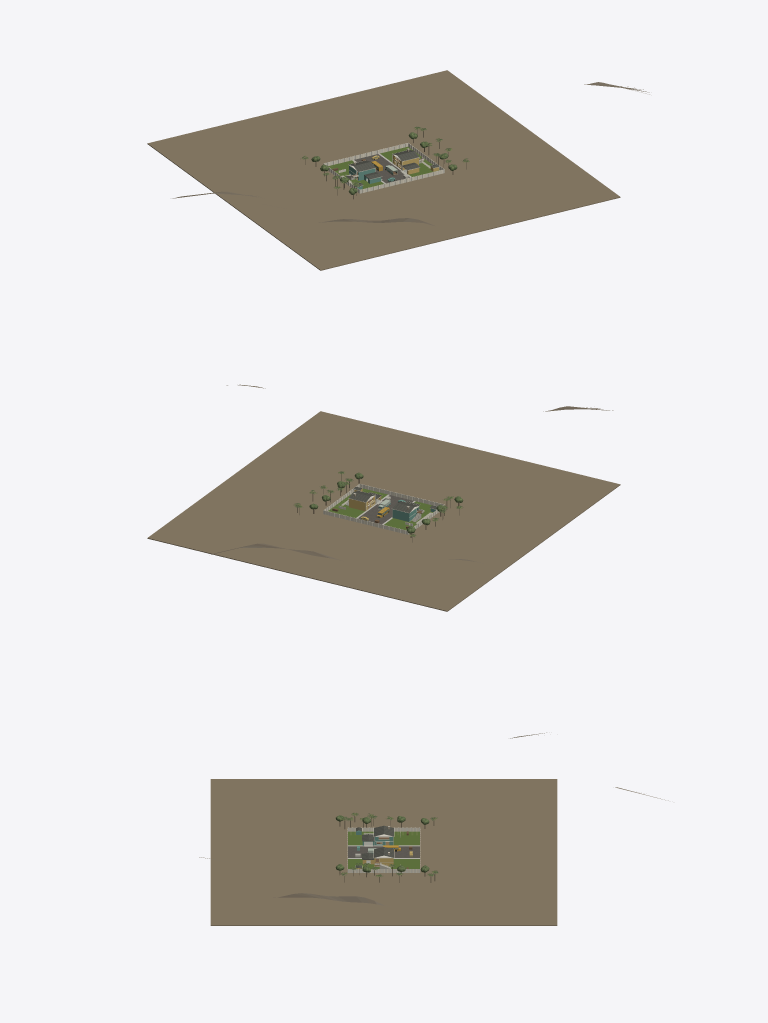
Rendered from environment.glb.
3 renders of one model, top to bottom at view 1: azimuth 30°, elevation 25°; view 2: azimuth 150°, elevation 25°; view 3: azimuth 270°, elevation 25°, orthographic.
Parts seen in each view (by area): view 1: Horizon_Town_earth, Town_trim, Town_grass, Town_leaves, Town_roof, Town_siding; view 2: Horizon_Town_earth, Town_trim, Town_grass, Town_leaves, Town_siding; view 3: Horizon_Town_earth, Town_grass, Town_trim, Town_leaves, Town_roof.
Boxes of the visible parts, x1,y1,x2,y2 form: Horizon_Town_earth: [147, 70, 649, 270]; Town_trim: [323, 143, 444, 193]; Town_grass: [328, 146, 439, 189]; Town_leaves: [302, 126, 469, 194]; Town_roof: [349, 150, 439, 186]; Town_siding: [349, 155, 438, 189]; Horizon_Town_earth: [147, 384, 620, 611]; Town_trim: [323, 484, 444, 534]; Town_grass: [328, 488, 432, 530]; Town_leaves: [294, 471, 463, 537]; Town_siding: [349, 488, 436, 521]; Horizon_Town_earth: [199, 732, 668, 925]; Town_grass: [348, 831, 419, 868]; Town_trim: [347, 826, 420, 872]; Town_leaves: [335, 813, 438, 877]; Town_roof: [355, 825, 393, 868].
Bounding box in the file's own units: 470 × 33.12 × 470.
13 materials, 7 textured.
